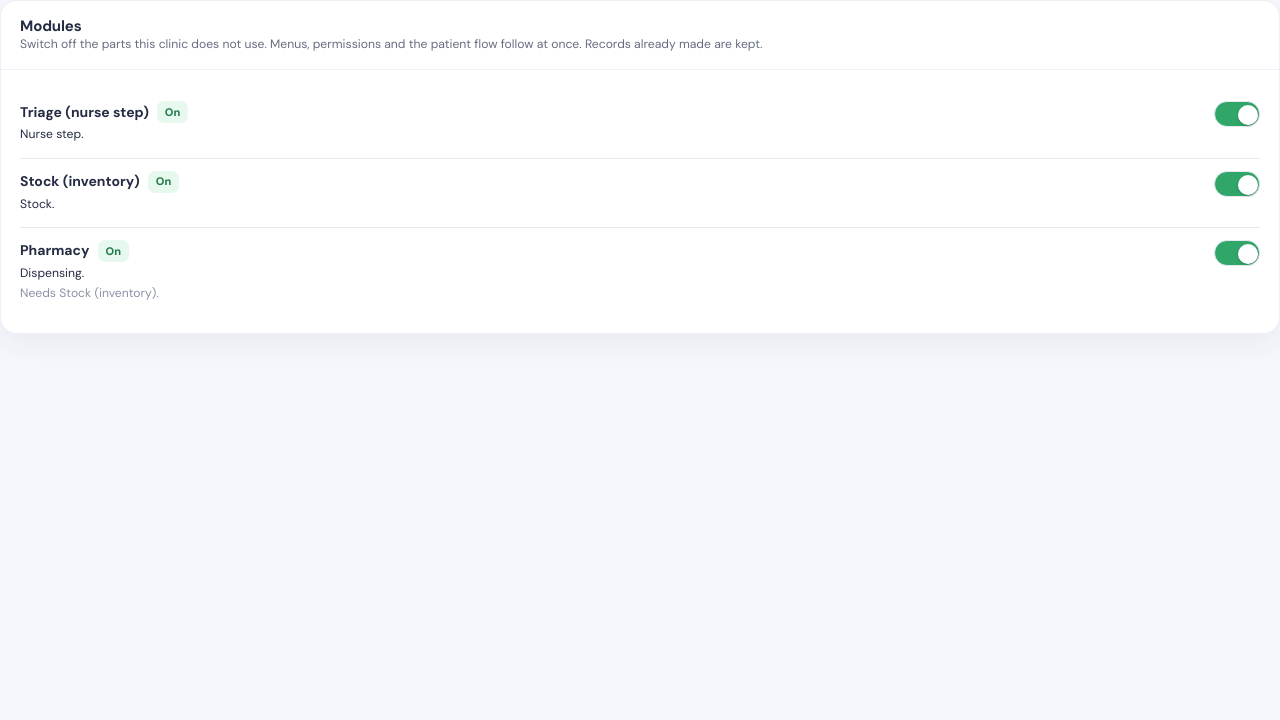
Test: ModulesPanel › asks before switching a module off and names what else stops
The width and height of the screenshot is (1280, 720).
Later steps or results of the test are not shown.
Click the 2nd switch named "Stock (inventory)". click: {"x": 1237, "y": 184}
box: x1=1214 y1=171 x2=1260 y2=197
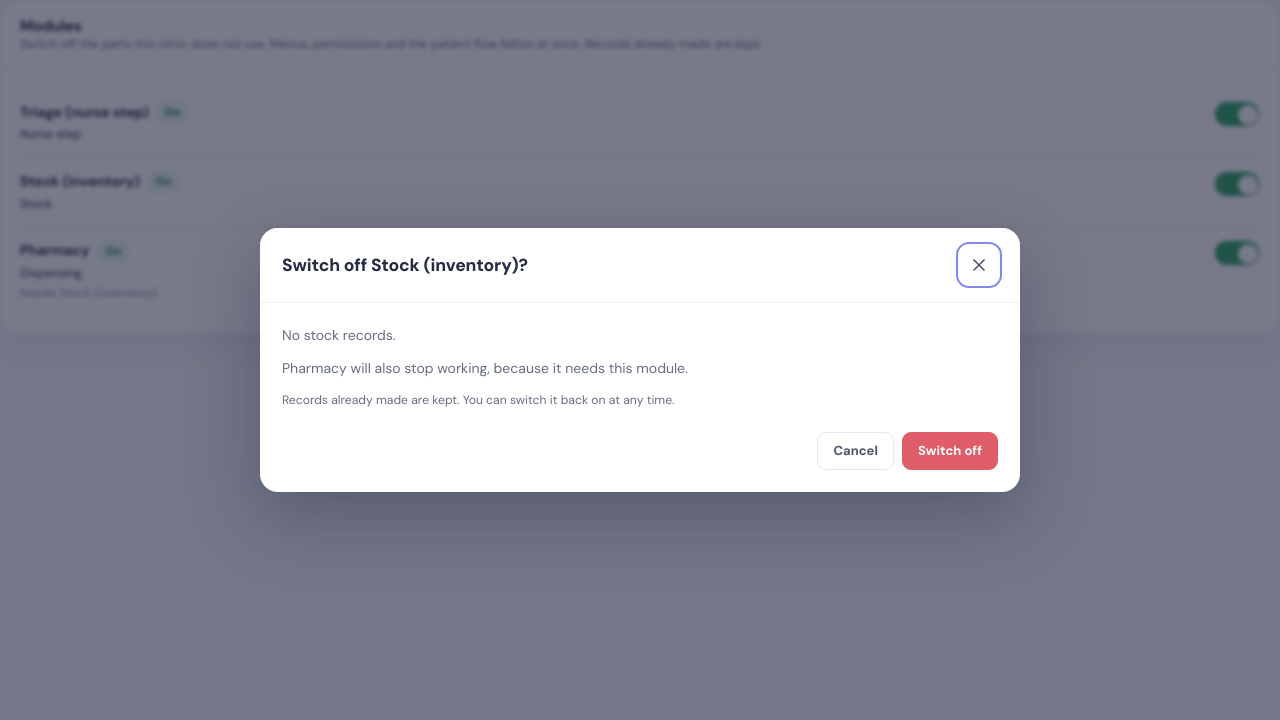
Now the text "Pharmacy will also stop working" is shown, box x1=282 y1=359 x2=688 y2=377
